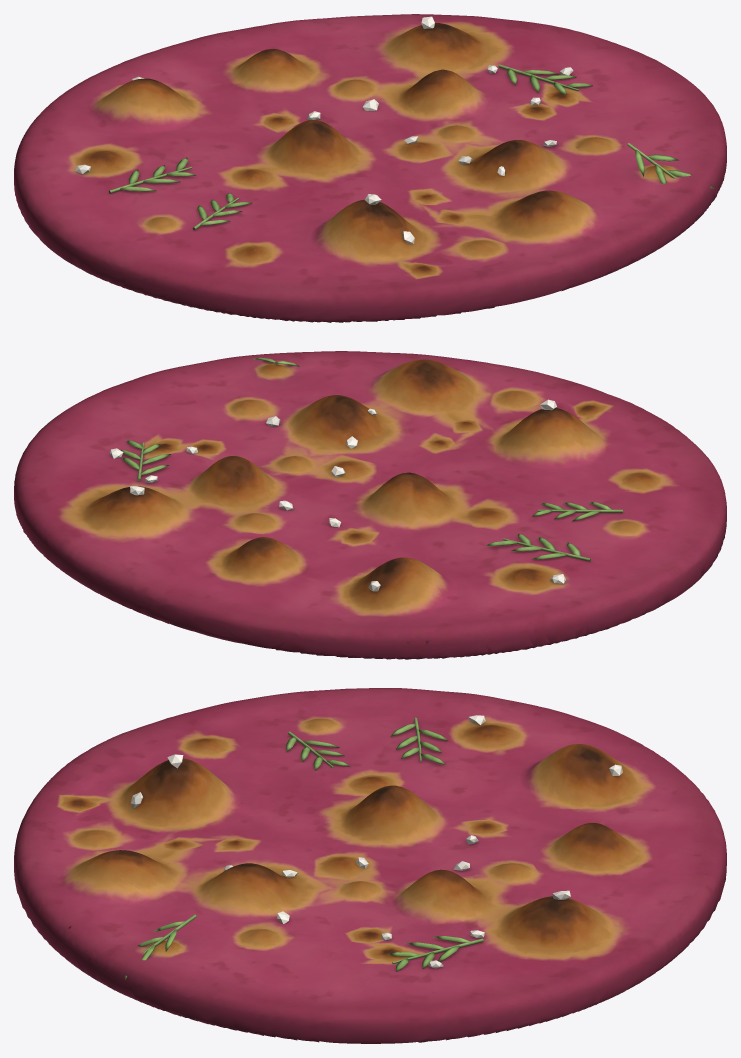
The model's file is flatbread--beet-puree.glb.
The picture shows the model from 3 angles, top to bottom: view 1: azimuth 30°, elevation 25°; view 2: azimuth 150°, elevation 25°; view 3: azimuth 270°, elevation 25°; orthographic projection. The views are drawn at different scales.
Parts seen in each view (by area): view 1: flatbread_beet-puree; view 2: flatbread_beet-puree; view 3: flatbread_beet-puree.
Part boxes in pixels (x1=…): flatbread_beet-puree: x1=14, y1=14, x2=726, y2=322; flatbread_beet-puree: x1=14, y1=351, x2=726, y2=659; flatbread_beet-puree: x1=14, y1=688, x2=726, y2=1043.
Bounding box in the file's own units: 0.9981 × 0.11 × 0.9018.
Materials: 1 (1 with a texture image).
